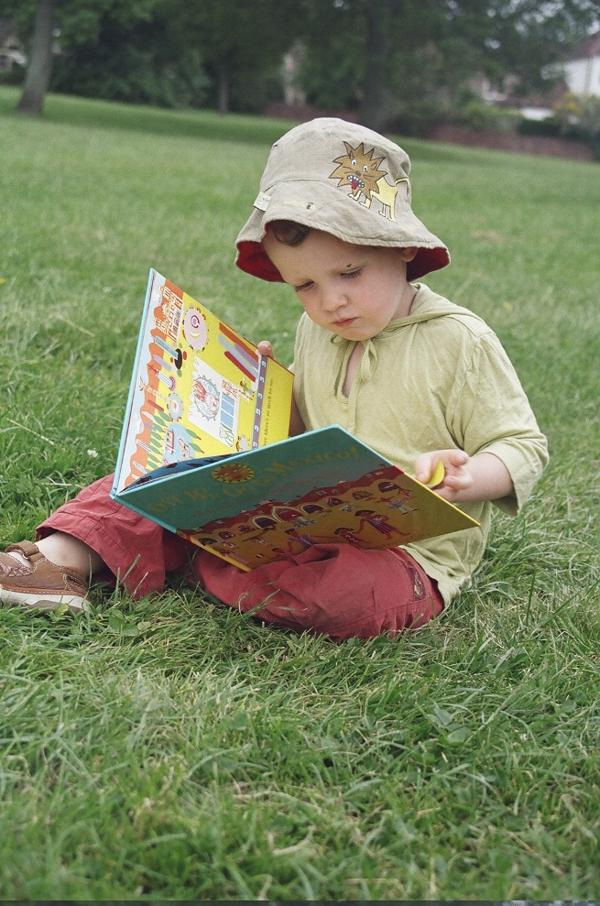person: (1, 118, 551, 642)
